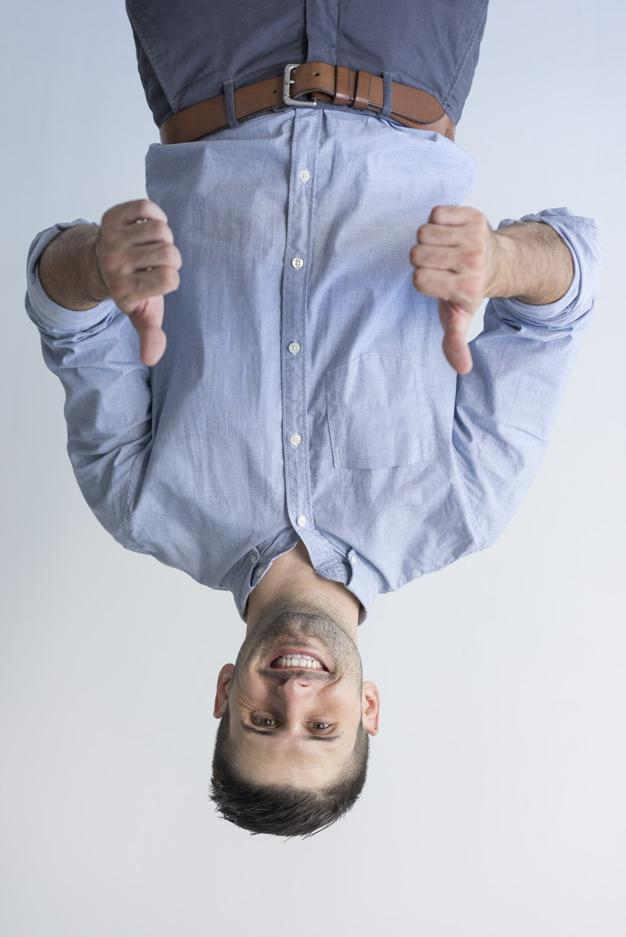thumbsdown: (96, 199, 182, 367), (409, 205, 490, 375)
